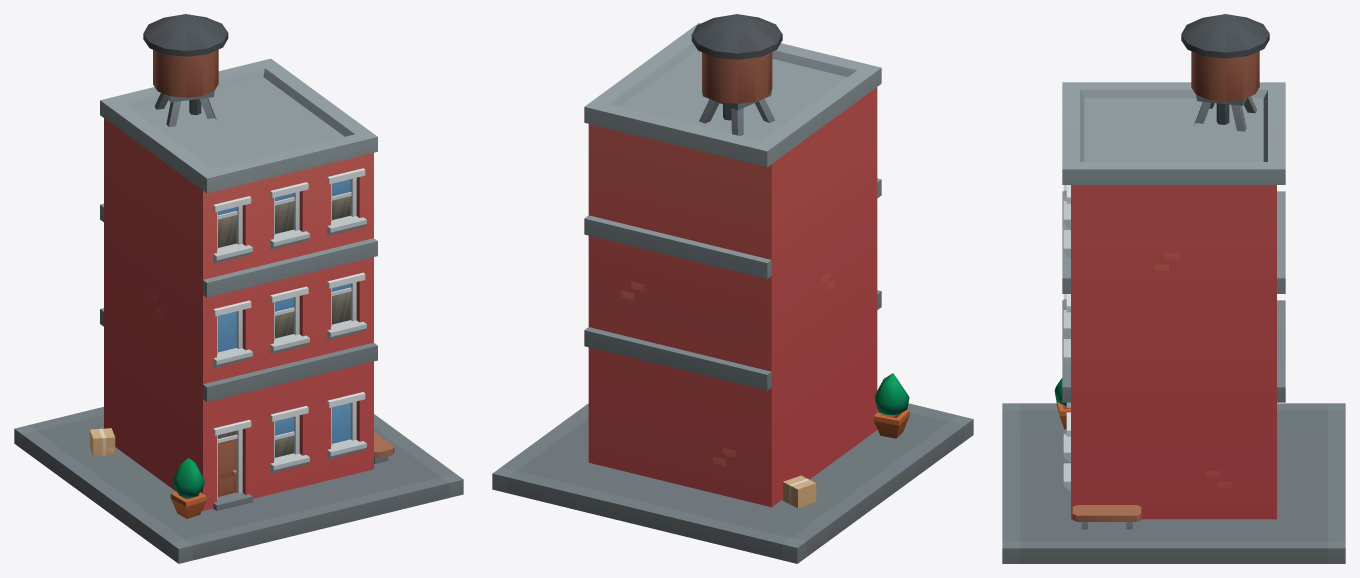
The model's file is hus.glb.
The picture shows the model from 3 angles, left to right: view 1: azimuth 30°, elevation 25°; view 2: azimuth 150°, elevation 25°; view 3: azimuth 270°, elevation 25°; orthographic projection. The views are drawn at different scales.
Parts seen in each view (by area): view 1: building_C; view 2: building_C; view 3: building_C.
Part boxes in pixels (x1,y1,x2,y2): building_C: (14,14,463,563); building_C: (492,14,973,563); building_C: (1002,14,1345,563).
Bounding box in the file's own units: 2 × 2.98 × 2.
Materials: 1 (1 with a texture image).
